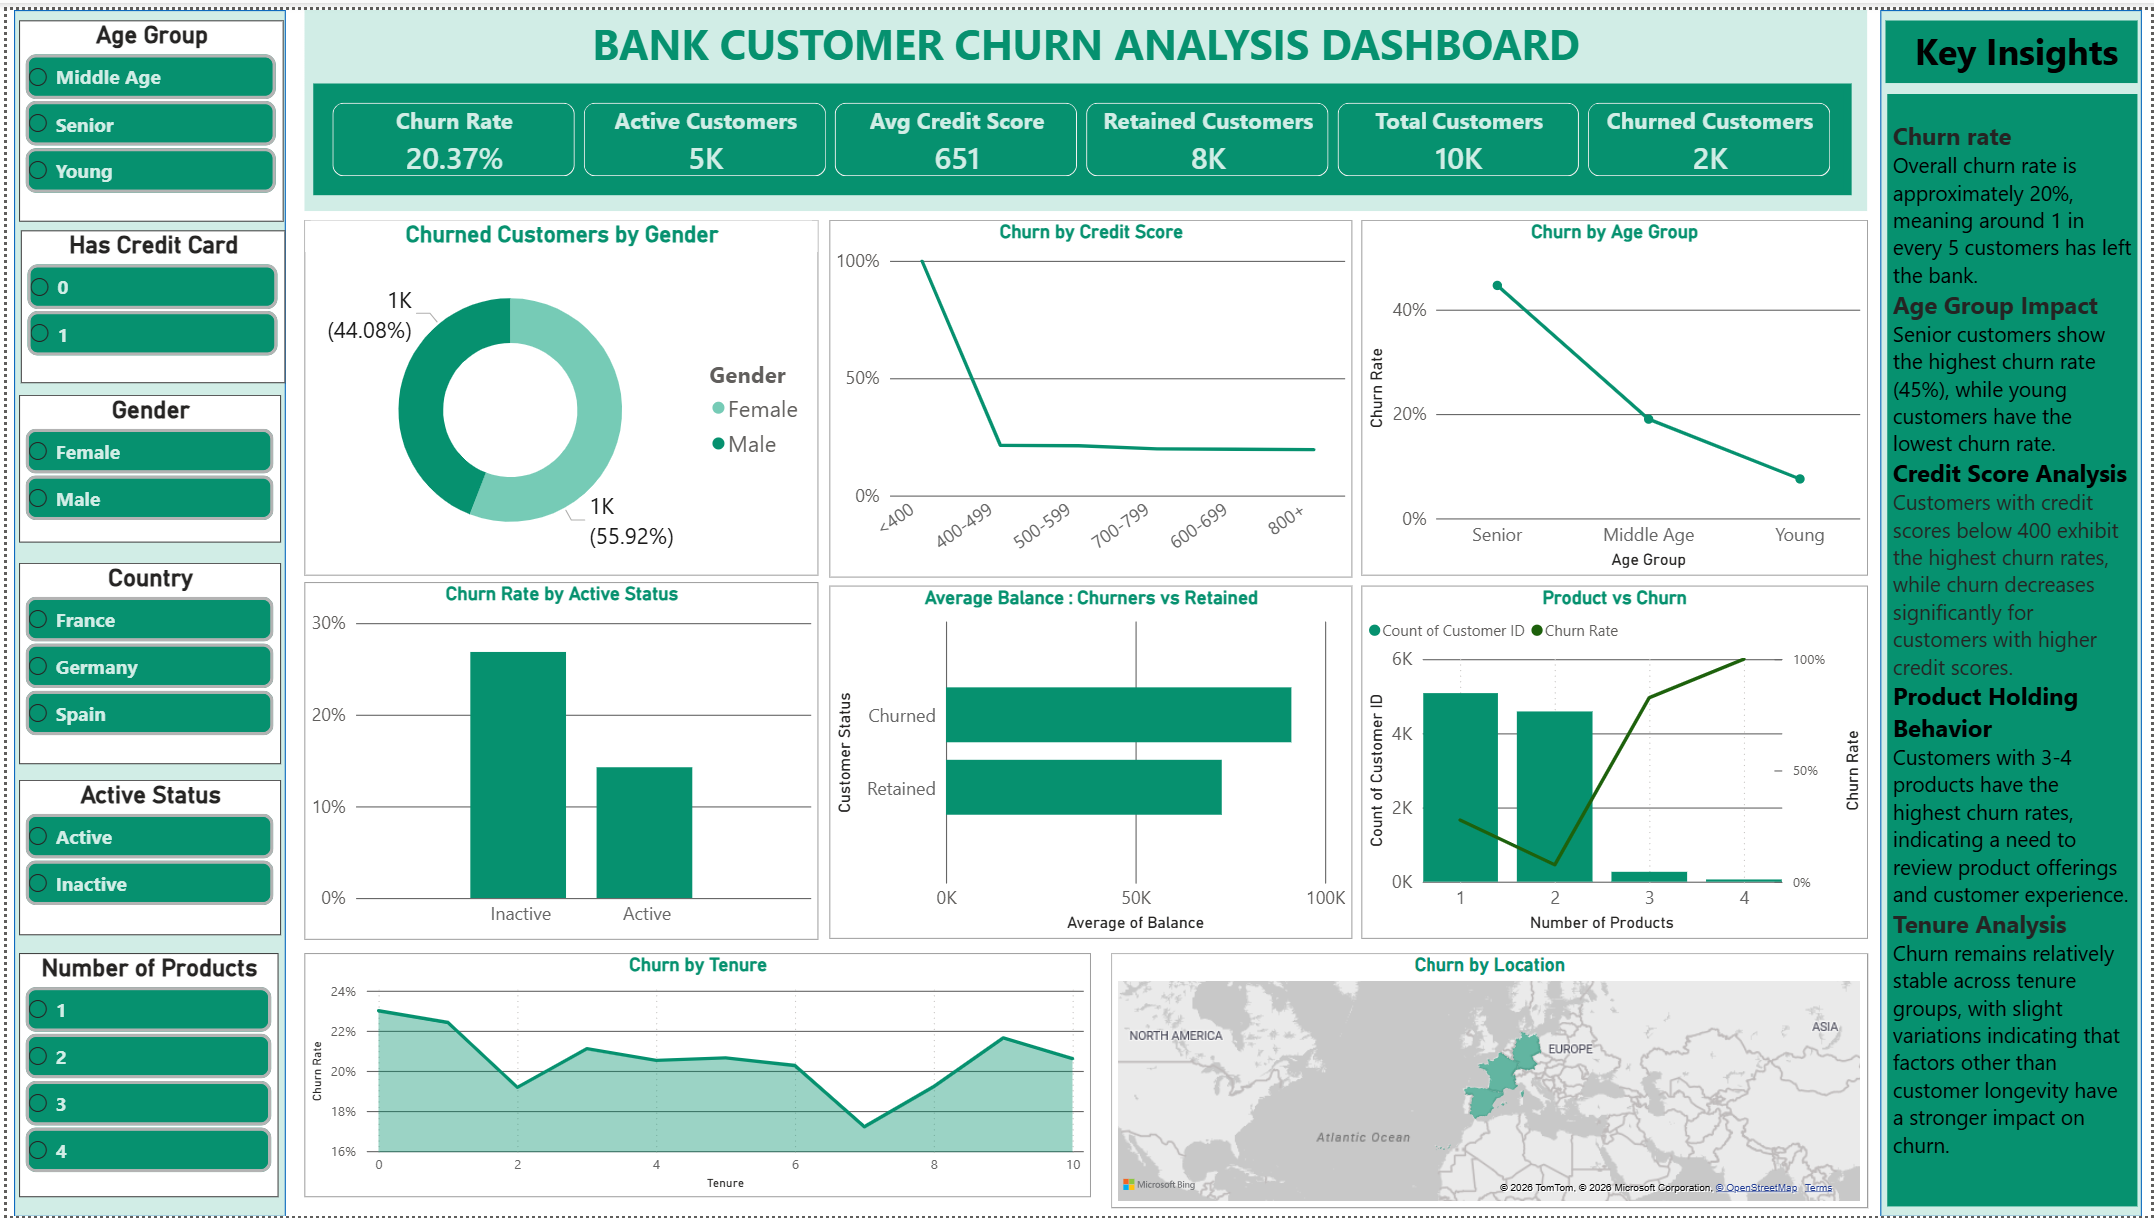

Layout of this report page (visuals, bound fields, positions):
{"tool":"powerbi","page":{"name":"Page 1","canvas":[1920,1080],"ordinal":0},"visuals":[{"type":"lineChart","title":"Churn by Credit Score","fields":{"Category":["public customers.Credit Score Band"],"Y":["public customers.Churn Rate"]},"box":[736,188,468,320],"z":0},{"type":"lineChart","title":"Churn by Age Group","fields":{"Y":["public customers.Churn Rate"],"Category":["public customers.Age Group"]},"box":[1212,188,454,318],"z":1000},{"type":"donutChart","fields":{"Category":["public customers.Gender"],"Y":["public customers.Churned Customers"]},"box":[266,188,460,318],"z":2000},{"type":"textbox","box":[266,0,1400,180],"z":3000},{"type":"shape","box":[6.8,0,243.4,1080.6],"z":4000},{"type":"shape","box":[1678.9,0,234.3,1080.6],"z":5000},{"type":"cardVisual","fields":{"Data":["public customers.Churn Rate","public customers.Active Customers","public customers.Avg Credit Score","public customers.Retained Customers","public customers.Total Customers","public customers.Churned Customers"]},"box":[274,66,1378,100],"z":6000},{"type":"lineClusteredColumnComboChart","title":"Product vs Churn","fields":{"Category":["public customers.Number of Products"],"Y":["CountNonNull(public customers.Customer ID)"],"Y2":["public customers.Churn Rate"]},"box":[1212,516,454,316],"z":7000},{"type":"stackedAreaChart","title":"Churn by Tenure","fields":{"Category":["public customers.Tenure"],"Y":["public customers.Churn Rate"]},"box":[266,844,704,218],"z":8000},{"type":"filledMap","title":"Churn by Location","fields":{"Category":["public customers.Country"]},"box":[988,844,678,228],"z":9000},{"type":"clusteredColumnChart","fields":{"Category":["public customers.Active Status"],"Y":["public customers.Churn Rate"]},"box":[266,512,460,320],"z":10000},{"type":"clusteredBarChart","title":"Average Balance : Churners vs Retained","fields":{"Category":["public customers.Customer Status"],"Y":["Avg(public customers.Balance)"]},"box":[736,516,468,316],"z":11000},{"type":"listSlicer","fields":{"Values":["public customers.Age Group"]},"box":[11.4,9.1,236.6,179.7],"z":12000},{"type":"listSlicer","fields":{"Values":["public customers.Has Credit Card"]},"box":[12.5,197.9,236.6,136.5],"z":13000},{"type":"listSlicer","fields":{"Values":["public customers.Gender"]},"box":[10.2,344.6,234.3,131.9],"z":14000},{"type":"listSlicer","fields":{"Values":["public customers.Country"]},"box":[10.2,494.8,234.3,179.7],"z":15000},{"type":"listSlicer","fields":{"Values":["public customers.Active Status"]},"box":[10.2,689.3,234.3,138.8],"z":16000},{"type":"listSlicer","fields":{"Values":["public customers.Number of Products"]},"box":[11.4,844,232,218.4],"z":17000},{"type":"textbox","box":[1682.8,9.3,225.7,56],"z":18000},{"type":"textbox","box":[1684.7,74.6,223.9,996.2],"z":19000}]}

Visuals, with their boxes in screenshot pixels (x1, y1, x2, y2), scaled from the page's 1920x1080 canvas onto the 2154x1218 screenshot:
"Churn by Credit Score" lineChart: l=826, t=212, r=1351, b=573
"Churn by Age Group" lineChart: l=1360, t=212, r=1869, b=571
donutChart - public customers.Gender x public customers.Churned Customers: l=298, t=212, r=814, b=571
textbox: l=298, t=0, r=1869, b=203
shape: l=8, t=0, r=281, b=1217
shape: l=1884, t=0, r=2146, b=1217
cardVisual - public customers.Churn Rate x public customers.Active Customers: l=307, t=74, r=1853, b=187
"Product vs Churn" lineClusteredColumnComboChart: l=1360, t=582, r=1869, b=938
"Churn by Tenure" stackedAreaChart: l=298, t=952, r=1088, b=1198
"Churn by Location" filledMap: l=1108, t=952, r=1869, b=1209
clusteredColumnChart - public customers.Active Status x public customers.Churn Rate: l=298, t=577, r=814, b=938
"Average Balance : Churners vs Retained" clusteredBarChart: l=826, t=582, r=1351, b=938
listSlicer - public customers.Age Group: l=13, t=10, r=278, b=213
listSlicer - public customers.Has Credit Card: l=14, t=223, r=279, b=377
listSlicer - public customers.Gender: l=11, t=389, r=274, b=537
listSlicer - public customers.Country: l=11, t=558, r=274, b=761
listSlicer - public customers.Active Status: l=11, t=777, r=274, b=934
listSlicer - public customers.Number of Products: l=13, t=952, r=273, b=1198
textbox: l=1888, t=10, r=2141, b=74
textbox: l=1890, t=84, r=2141, b=1208
